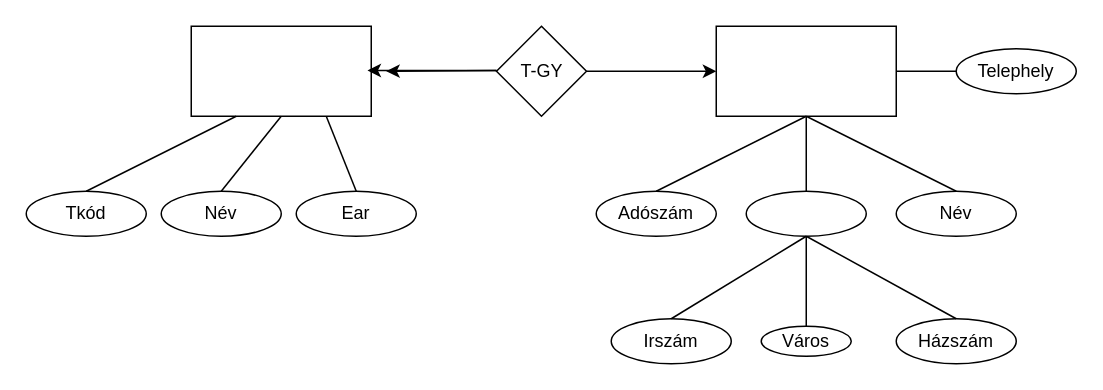
Some shapes in this 1103 by 390 pixel diagram are drawn without their labels. The centre of each missing label's shape, as x and y in pixels:
Gyártó: [805,70]
Postaicím: [805,213]
Termék: [280,70]
